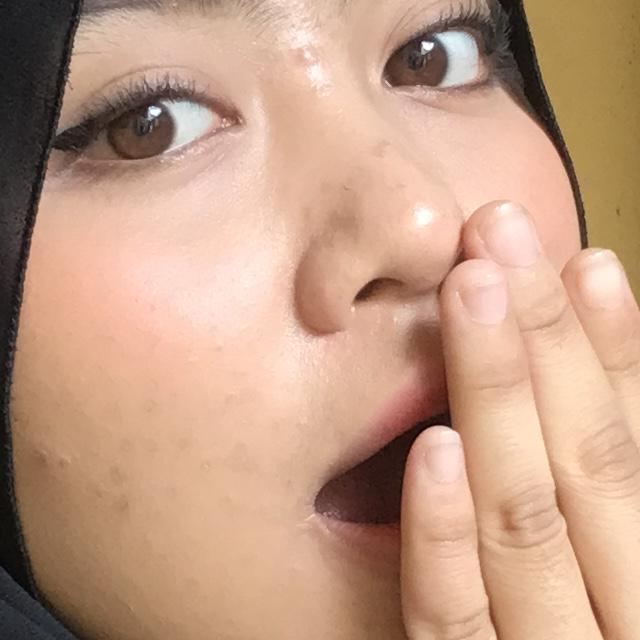ngantuk: (210, 126, 640, 640)
